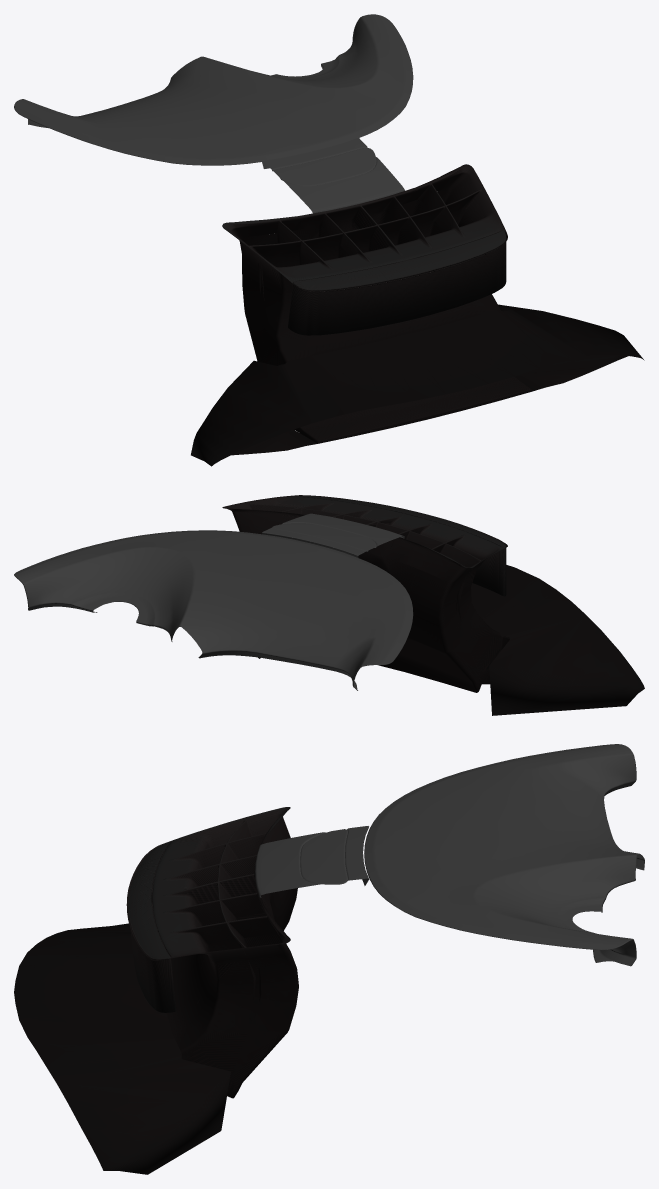
Rendered from hood.glb.
3 renders of one model, top to bottom at view 1: azimuth 30°, elevation 25°; view 2: azimuth 150°, elevation 25°; view 3: azimuth 270°, elevation 25°, orthographic. The views are drawn at different scales.
Visible parts, largest first — view 1: Kit0_Coloured_Geo_lodA_McLaren_Elva_2021Carbon1M_Material_0, body:Kit0_Paint_Geo_lodABody_lodA_McLaren_Elva_2021Paint_Ma. (×2); view 2: body:Kit0_Paint_Geo_lodABody_lodA_McLaren_Elva_2021Paint_Ma. (×2), Kit0_Coloured_Geo_lodA_McLaren_Elva_2021Carbon1M_Material_0; view 3: Kit0_Coloured_Geo_lodA_McLaren_Elva_2021Carbon1M_Material_0, body:Kit0_Paint_Geo_lodABody_lodA_McLaren_Elva_2021Paint_Ma. (×2).
Boxes of the visible parts, left/top/right/bottom form: Kit0_Coloured_Geo_lodA_McLaren_Elva_2021Carbon1M_Material_0: left=191, top=164, right=644, bottom=466; body:Kit0_Paint_Geo_lodABody_lodA_McLaren_Elva_2021Paint_Ma. (×2): left=14, top=14, right=413, bottom=213; body:Kit0_Paint_Geo_lodABody_lodA_McLaren_Elva_2021Paint_Ma. (×2): left=14, top=513, right=413, bottom=690; Kit0_Coloured_Geo_lodA_McLaren_Elva_2021Carbon1M_Material_0: left=222, top=495, right=644, bottom=715; Kit0_Coloured_Geo_lodA_McLaren_Elva_2021Carbon1M_Material_0: left=14, top=807, right=298, bottom=1174; body:Kit0_Paint_Geo_lodABody_lodA_McLaren_Elva_2021Paint_Ma. (×2): left=255, top=744, right=644, bottom=966.
Bounding box in the file's own units: 0.015 × 0.00655 × 0.0168.
Materials: 2 (1 with a texture image).
